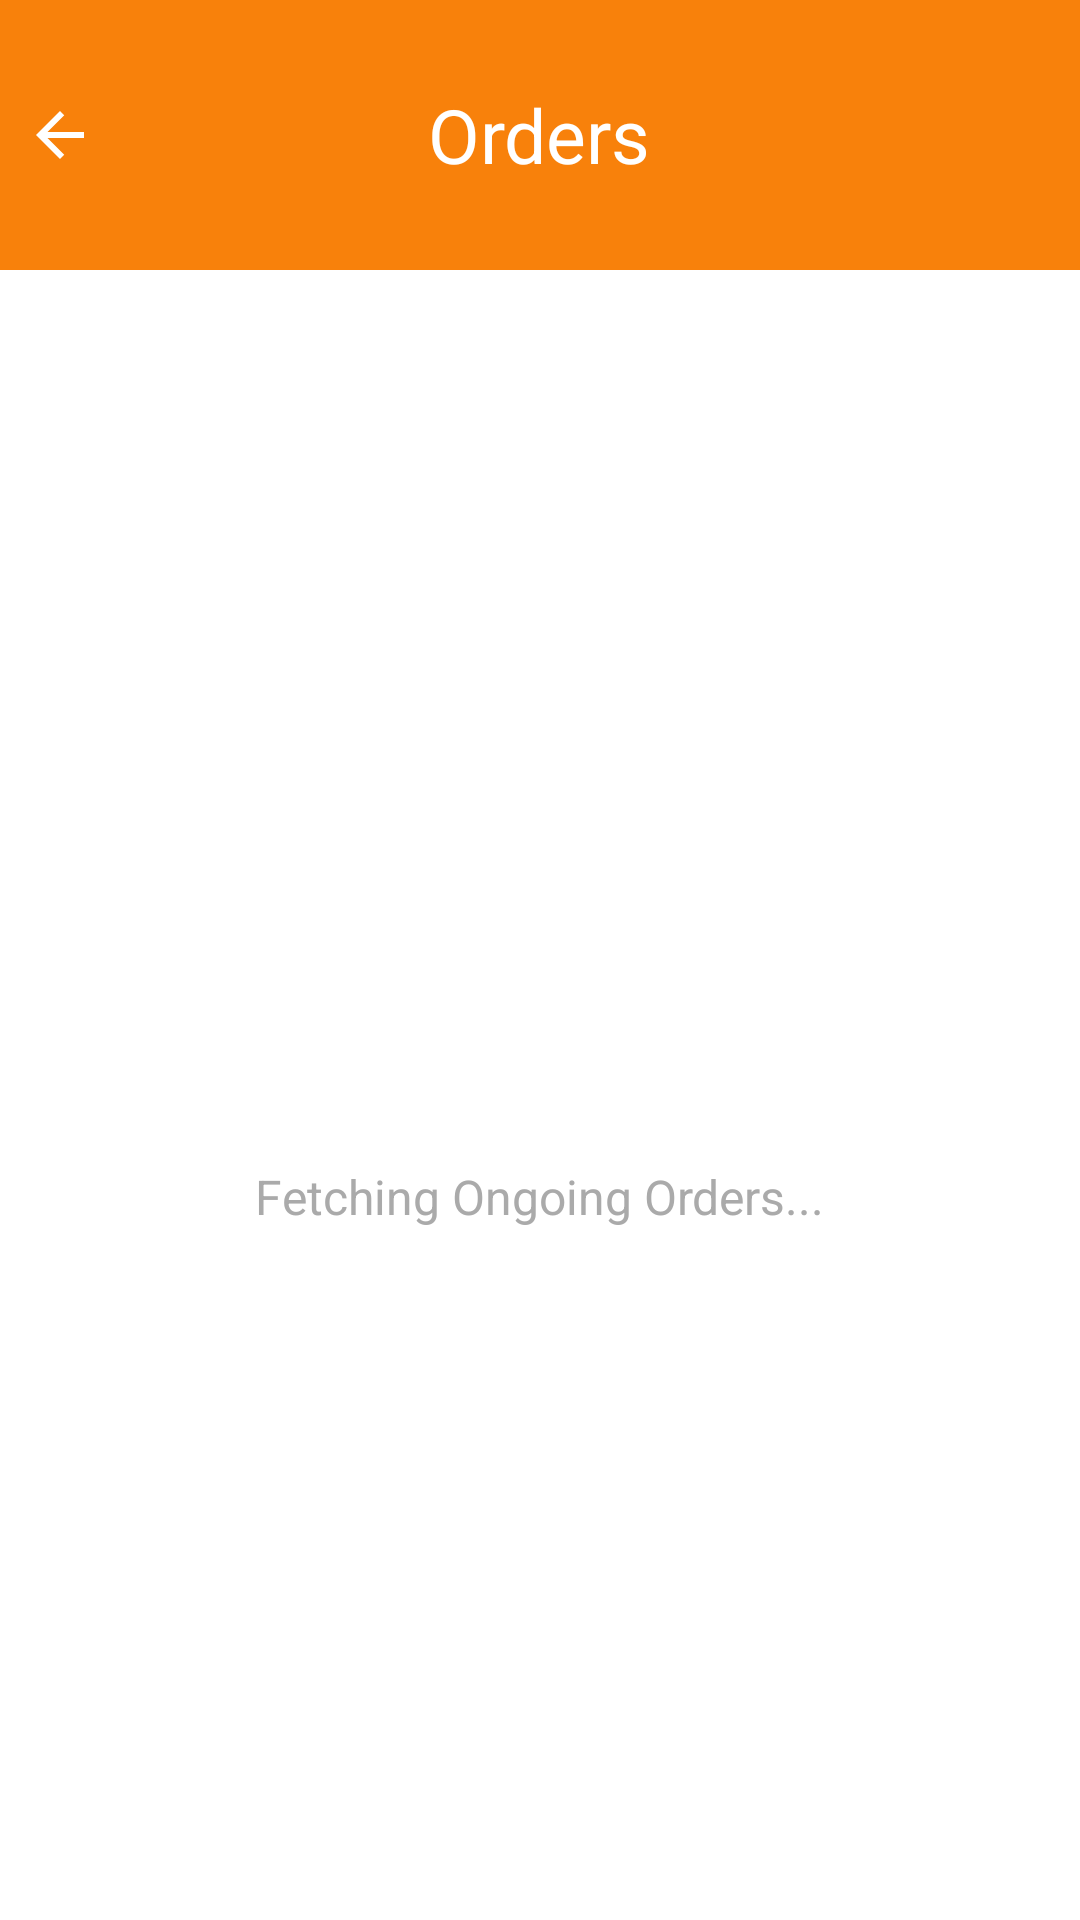

Named icons in this screenshot (1080*1920) and their centers, (x=x, y=y):
Back: (x=60, y=135)
